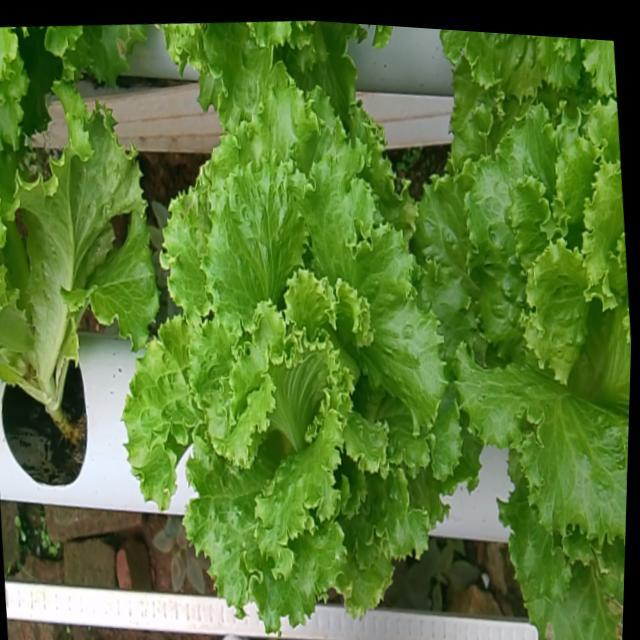Mature: (135, 101, 472, 640), (425, 116, 631, 559)
